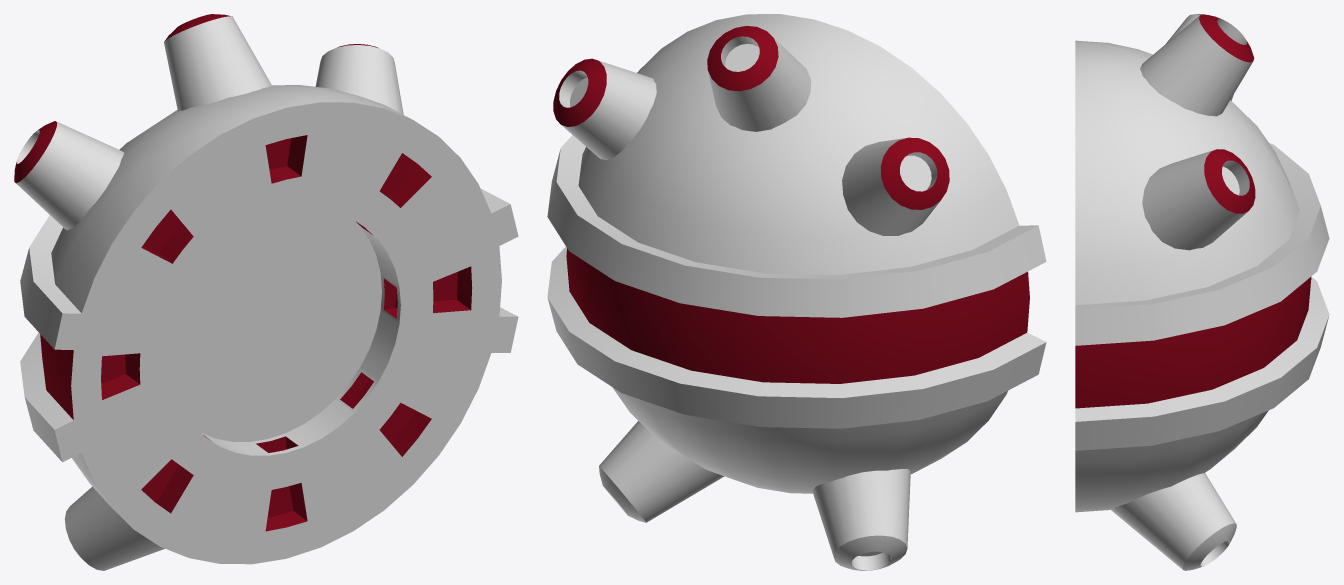
Rendered from Boss_04_Navel.fbx.
The picture shows the model from 3 angles, left to right: view 1: azimuth 30°, elevation 25°; view 2: azimuth 150°, elevation 25°; view 3: azimuth 270°, elevation 25°; orthographic projection. The views are drawn at different scales.
Visible parts, largest first — view 1: HalfSphere_02; view 2: HalfSphere_02; view 3: HalfSphere_02.
Part boxes in pixels (x1,y1,x2,y2): HalfSphere_02: (14,14,518,570); HalfSphere_02: (547,14,1046,570); HalfSphere_02: (1075,14,1329,570).
Bounding box in the file's own units: 215 × 231 × 108.
